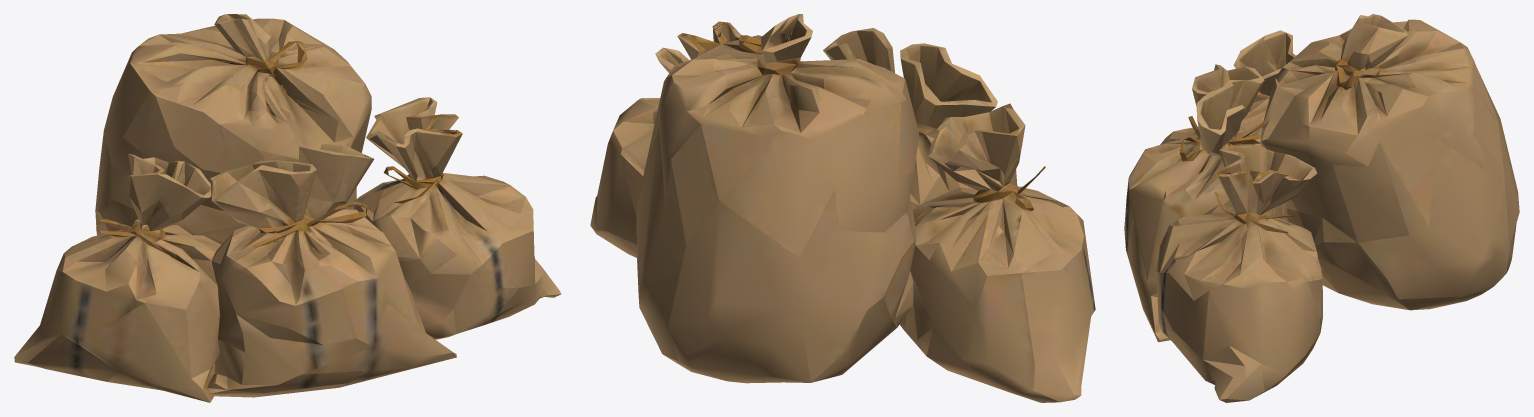
File: sacks-pile.low.glb
The picture shows the model from 3 angles, left to right: view 1: azimuth 30°, elevation 25°; view 2: azimuth 150°, elevation 25°; view 3: azimuth 270°, elevation 25°; orthographic projection. The views are drawn at different scales.
Parts seen in each view (by area): view 1: output_unwrapped; view 2: output_unwrapped; view 3: output_unwrapped.
Part boxes in pixels (<box>): output_unwrapped: <box>14,14,561,402</box>; output_unwrapped: <box>590,14,1095,402</box>; output_unwrapped: <box>1124,14,1519,402</box>.
Bounding box in the file's own units: 1.9 × 1.09 × 1.41.
1 material, 1 textured.
